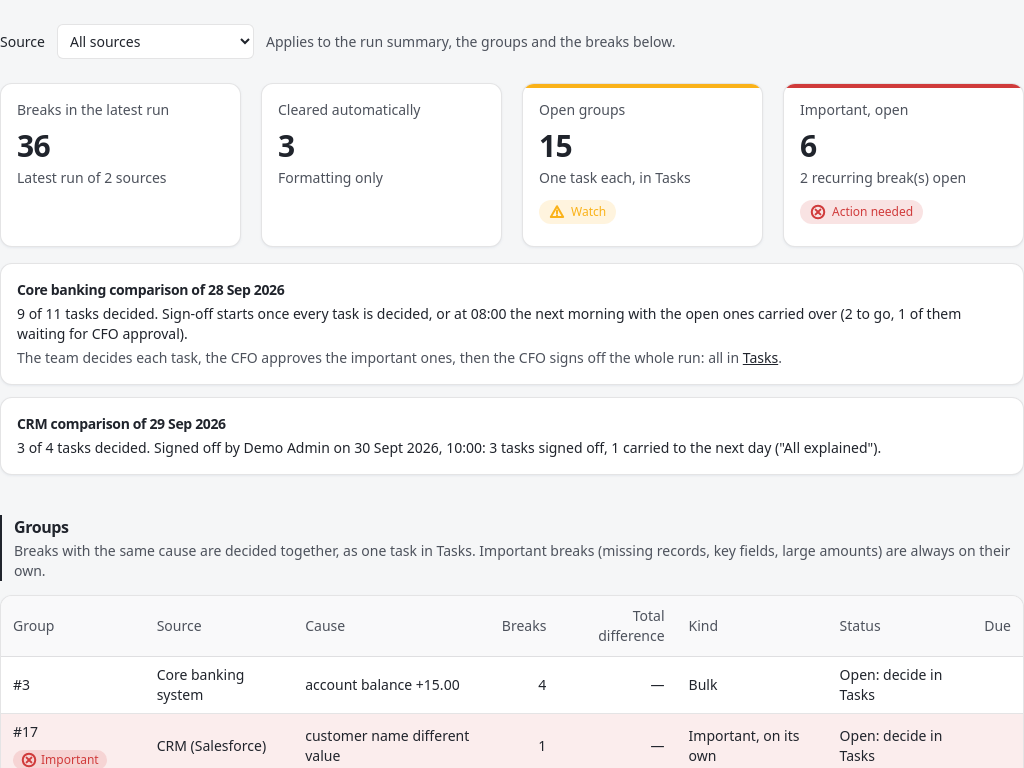
Scenario: reconciliation against the source systems › one Source filter narrows the run, the groups and the breaks together
Select "CRM (Salesforce)" in the dropdown labelled "Source" at (155, 42), box [57,24,254,59]
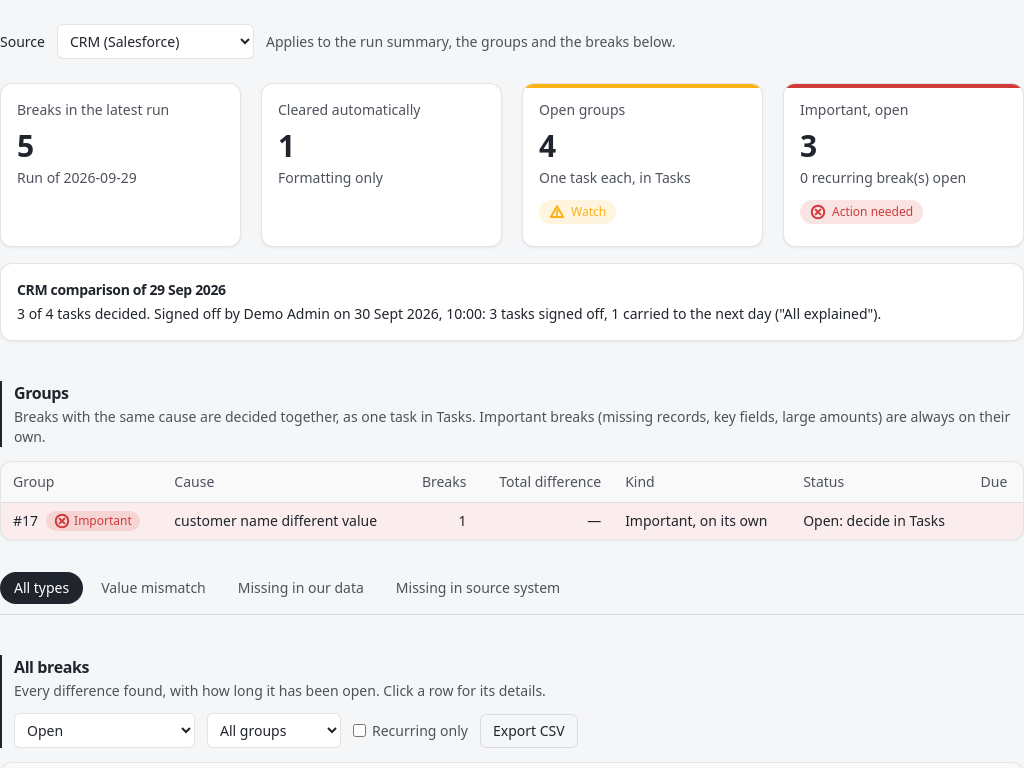
Expected: the button "#17" is shown, [13,511,38,531]
Expected: the text "5" is shown, [17,125,33,166]
Expected: the button "#3" is gone
